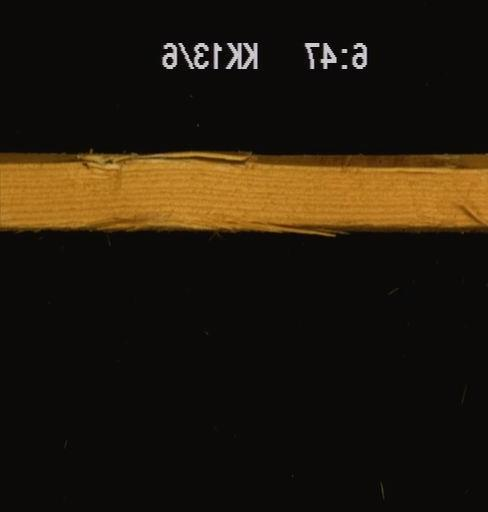wave: (0, 145, 486, 171), (1, 215, 483, 241)
